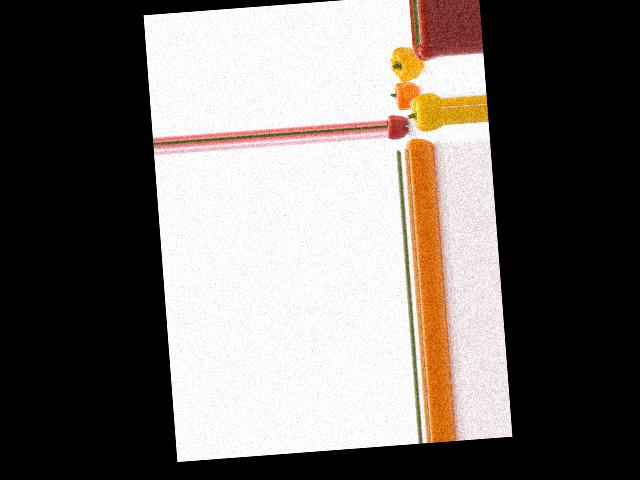bell_pepper: (402, 135, 434, 152)
